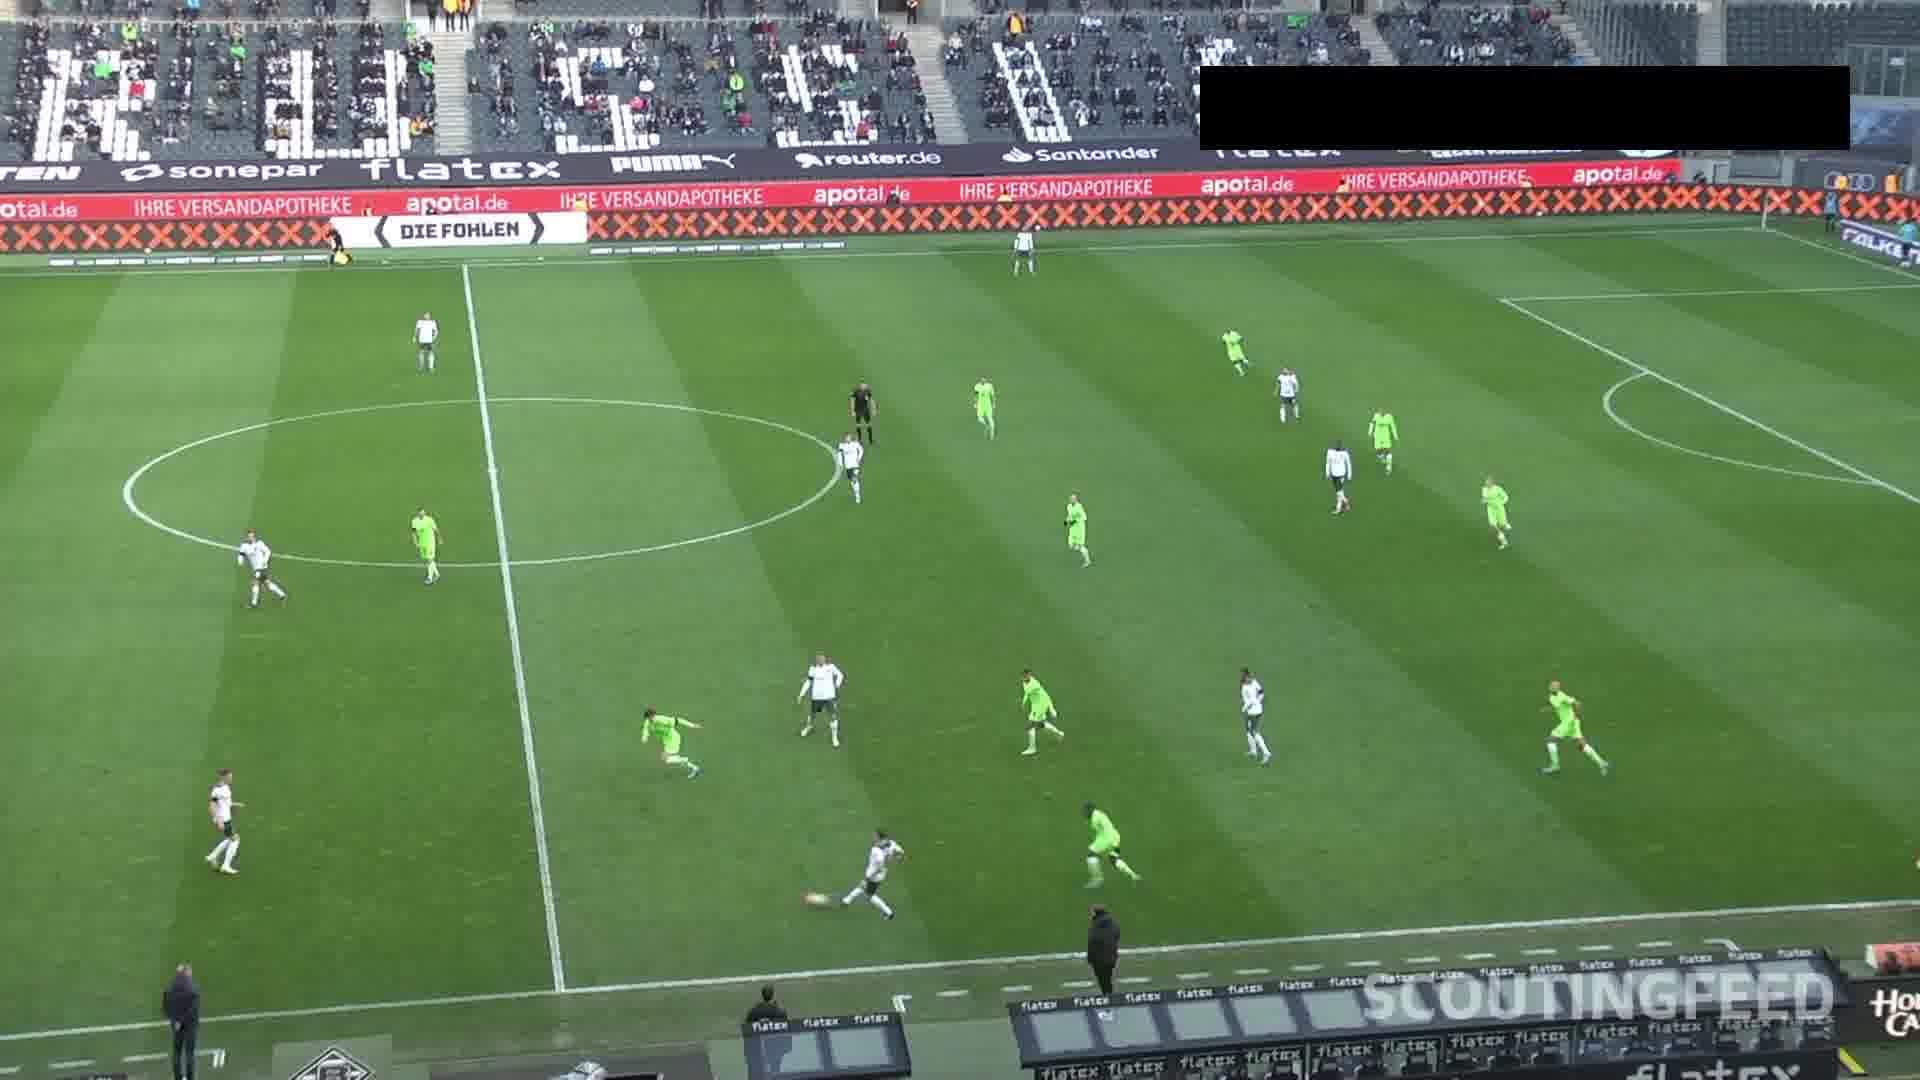football: (799, 887, 832, 910)
